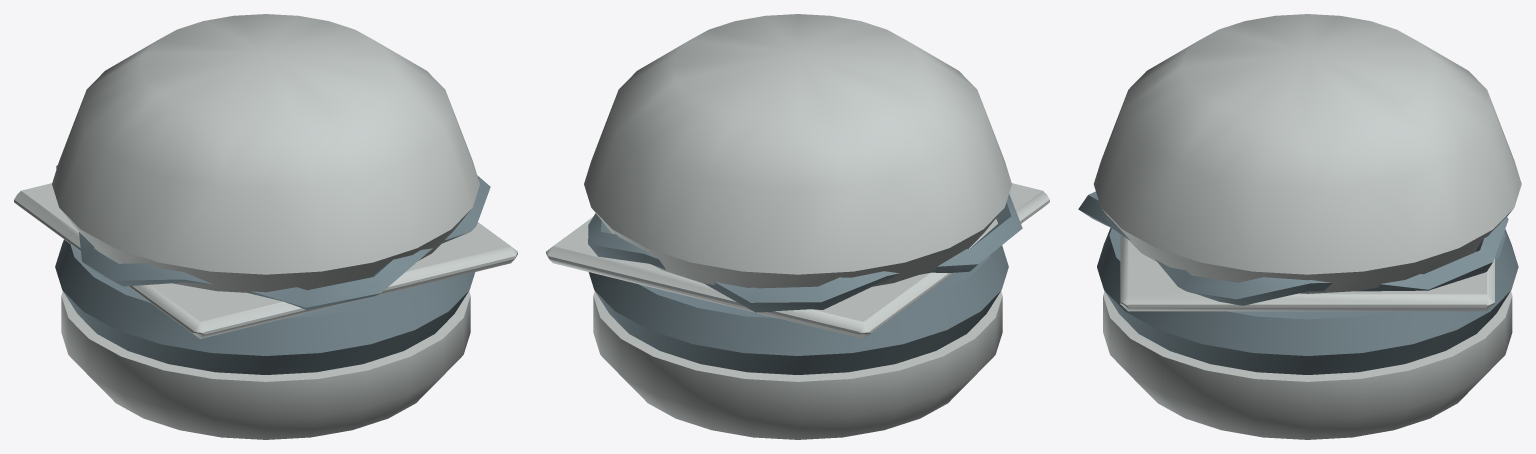
Rendered from burger.glb.
3 renders of one model, left to right at view 1: azimuth 30°, elevation 25°; view 2: azimuth 150°, elevation 25°; view 3: azimuth 270°, elevation 25°, orthographic.
Parts seen in each view (by area): view 1: domed_top_bun, bottom_bun, grilled_patty, cheese_slice, lettuce_edge; view 2: domed_top_bun, bottom_bun, grilled_patty, cheese_slice, lettuce_edge; view 3: domed_top_bun, bottom_bun, grilled_patty, cheese_slice, lettuce_edge.
Boxes of the visible parts, x1,y1,x2,y2 form: domed_top_bun: [52, 14, 479, 293]; bottom_bun: [61, 291, 470, 439]; grilled_patty: [55, 239, 475, 374]; cheese_slice: [14, 183, 517, 338]; lettuce_edge: [56, 165, 490, 310]; domed_top_bun: [584, 14, 1011, 288]; bottom_bun: [593, 291, 1002, 439]; grilled_patty: [588, 245, 1008, 374]; cheese_slice: [546, 183, 1049, 338]; lettuce_edge: [588, 194, 1022, 312]; domed_top_bun: [1093, 14, 1521, 293]; bottom_bun: [1103, 291, 1512, 439]; grilled_patty: [1097, 228, 1518, 374]; cheese_slice: [1120, 234, 1494, 311]; lettuce_edge: [1078, 191, 1508, 305].
Bounding box in the file's own units: 0.1388 × 0.11 × 0.1409.
